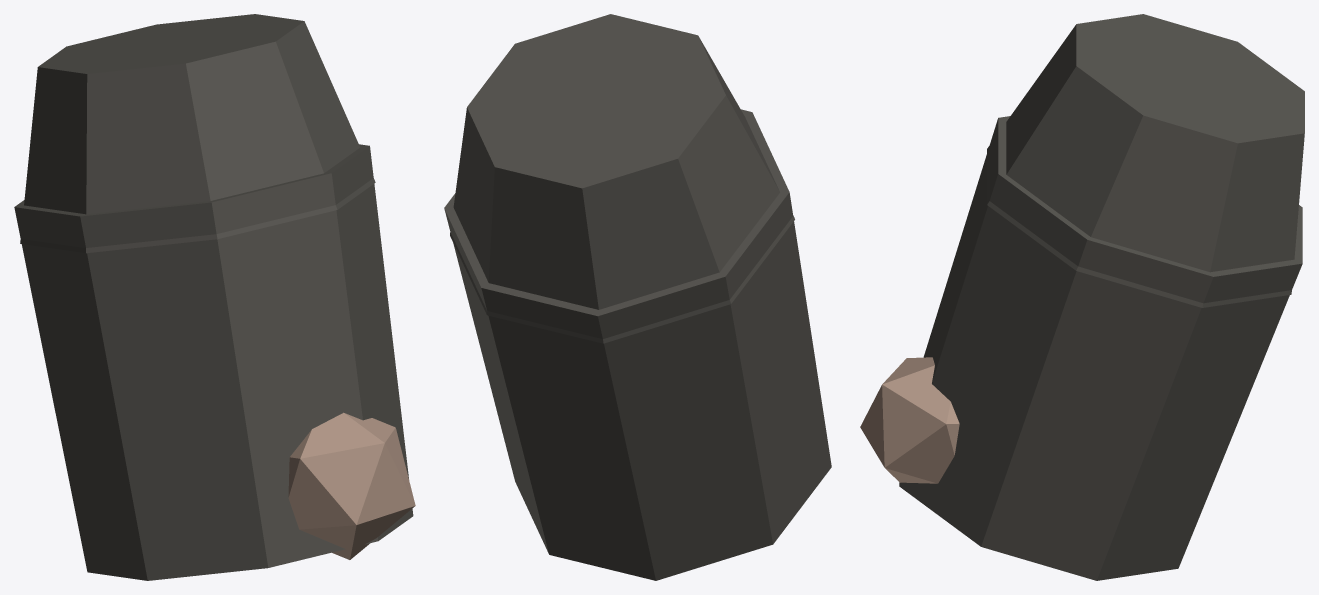
The model's file is inf_hocker_upper_leg.fbx.
3 views of the same model, side by side, from view 1: azimuth 30°, elevation 25°; view 2: azimuth 150°, elevation 25°; view 3: azimuth 270°, elevation 25° (orthographic). The views are drawn at different scales.
Parts seen in each view (by area): view 1: inf_hocker_upper_leg; view 2: inf_hocker_upper_leg; view 3: inf_hocker_upper_leg.
Boxes of the visible parts, box(x1,y1,x2,y2) form: inf_hocker_upper_leg: box(14, 14, 415, 580); inf_hocker_upper_leg: box(444, 14, 831, 580); inf_hocker_upper_leg: box(860, 14, 1304, 580).
Size of the model in its own units: 88.69 by 152 by 123.
